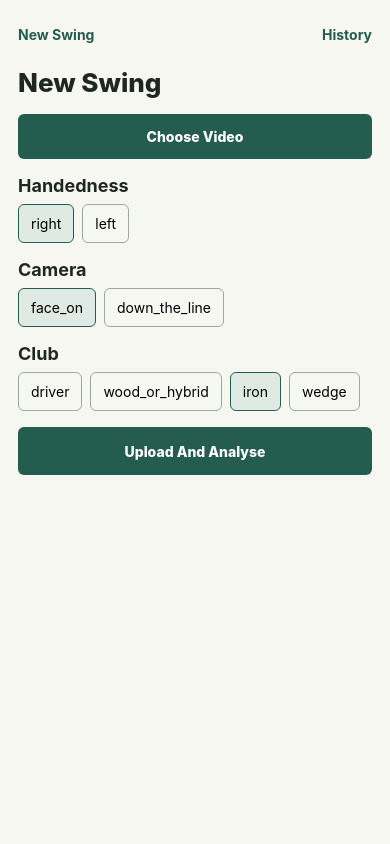
Scenario: shows an inline error and re-enables upload after a failure
Click the text "Choose Video": (195,136) [146,128,243,145]
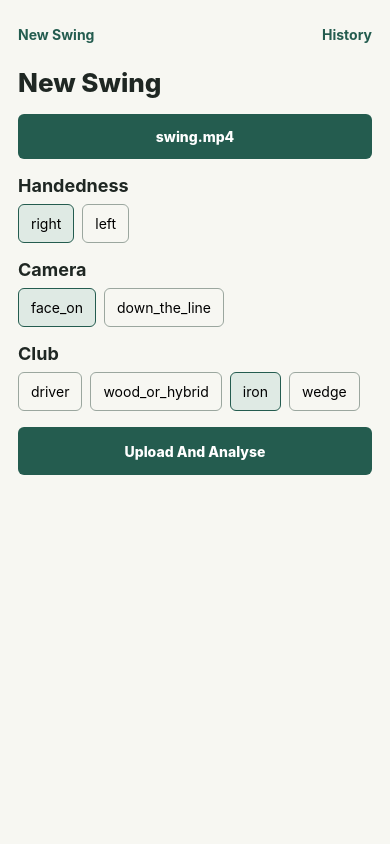
Expected: the text "swing.mp4" is shown, [156,128,234,145]
Click the text "Upload And Analyse": (195,451) [124,442,265,460]
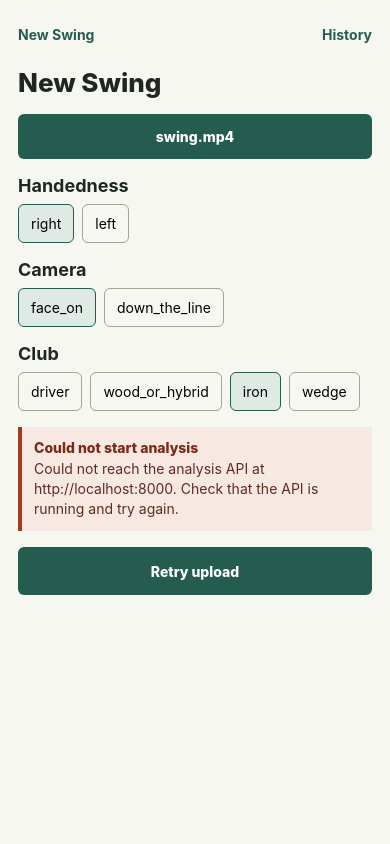
Expected: the text "Could not start analysis" is shown, [34,439,198,456]
Expected: the text "Could not reach the analysis API at http://localhost:8000. Check that the API is running and try again." is shown, [34,460,322,517]
